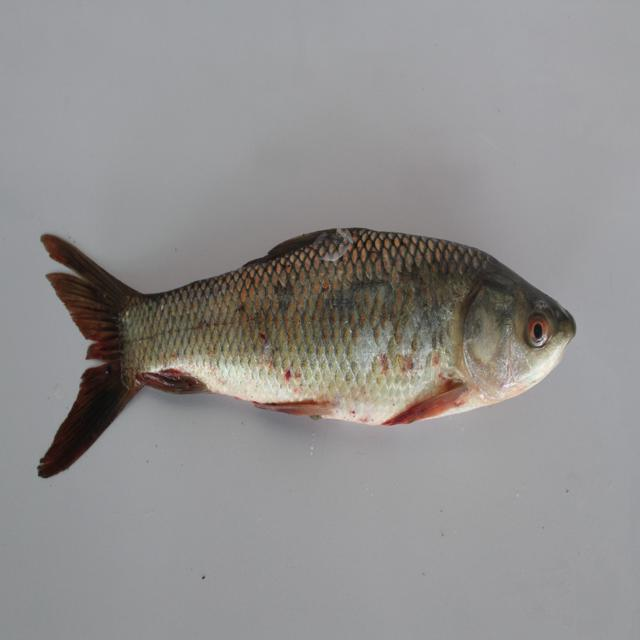Rohu: (18, 215, 583, 487)
